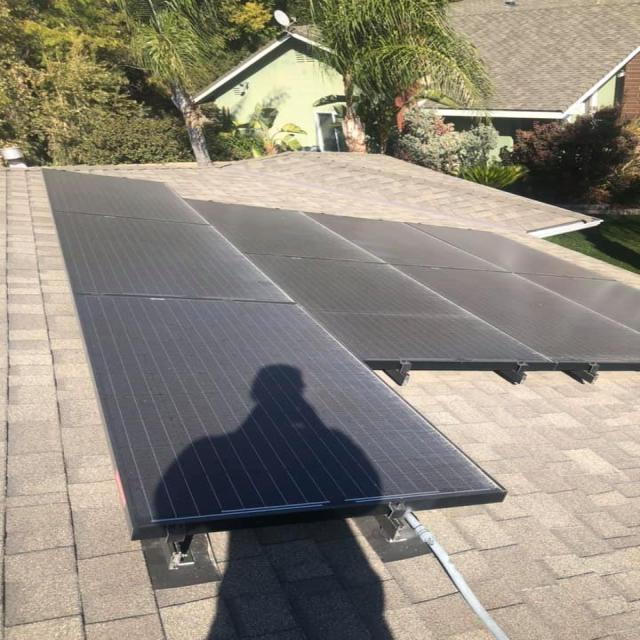dust-solar-panel: (41, 168, 640, 526)
